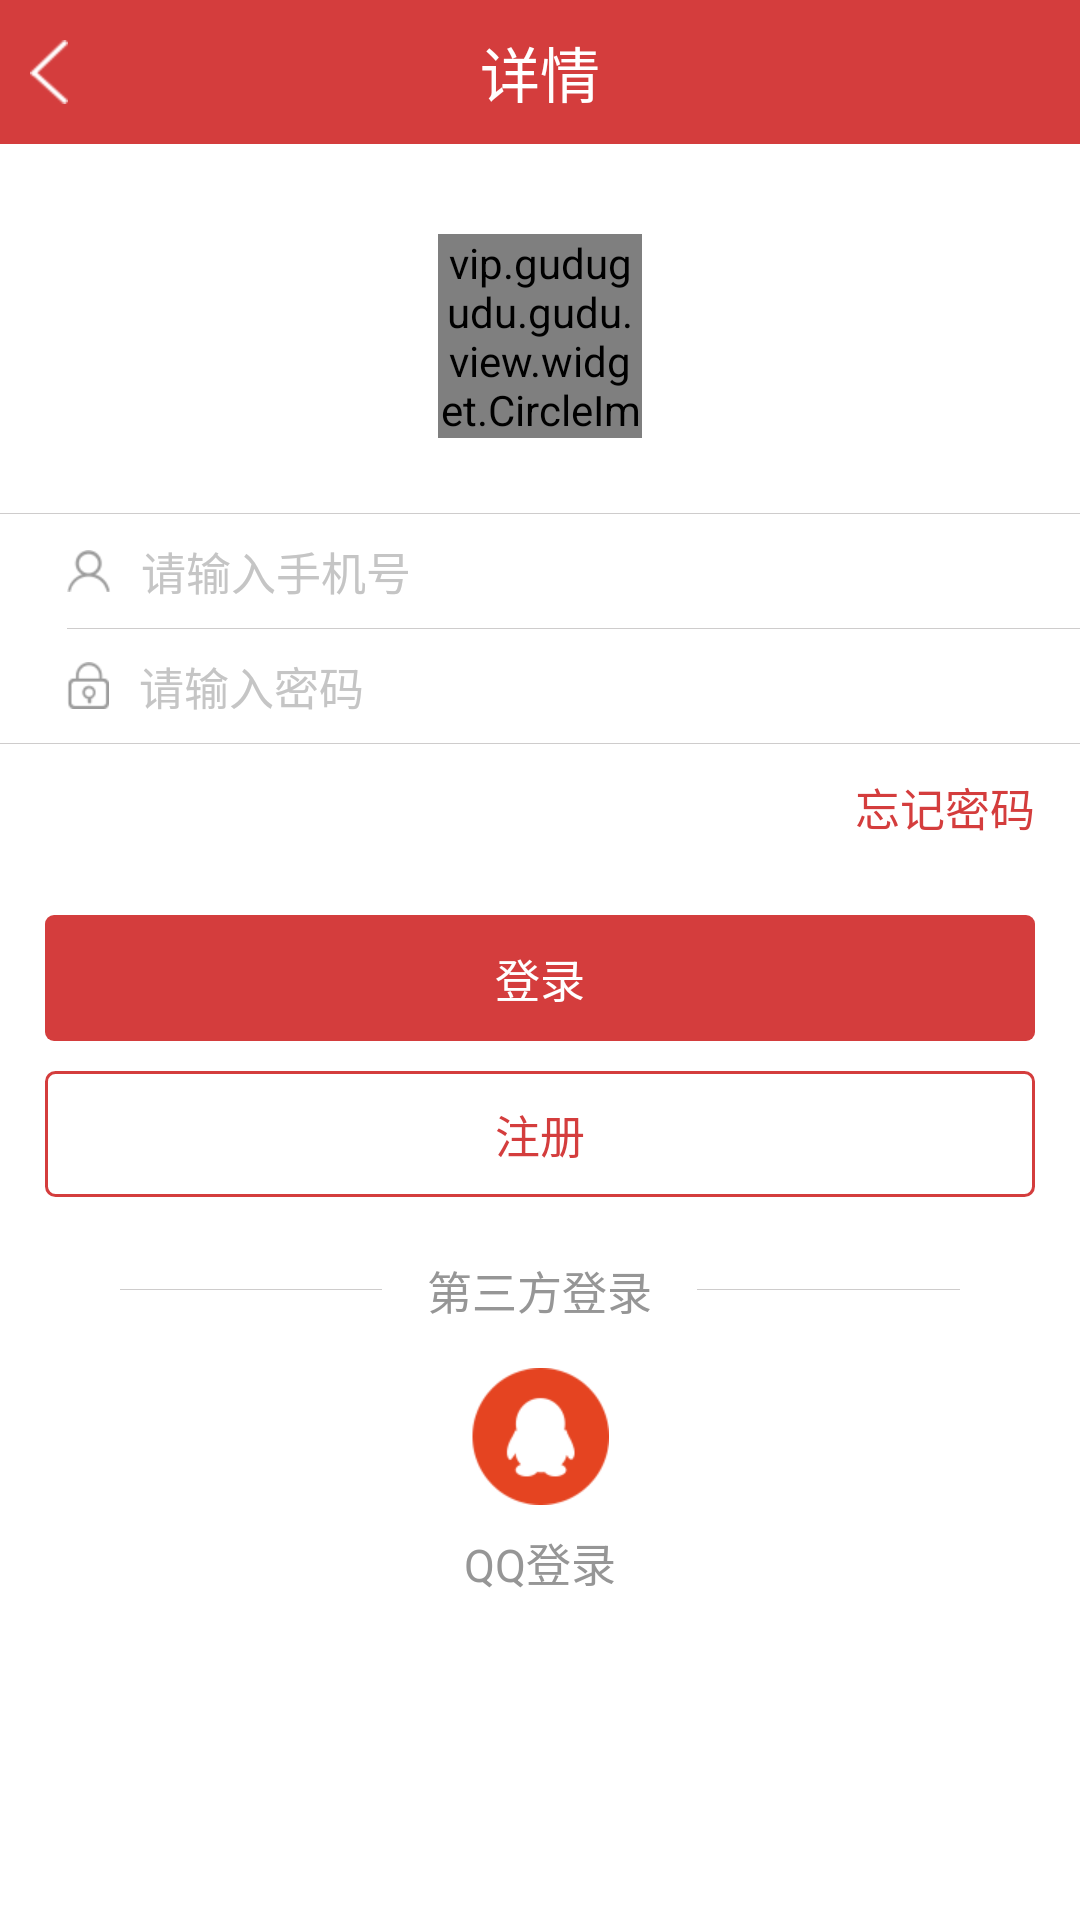

Named icons in this screenshot (1080x1920) and their bounding boxes, (x1, y1, x2, y2):
login name: (67, 550, 110, 592)
login pwd: (68, 662, 109, 709)
